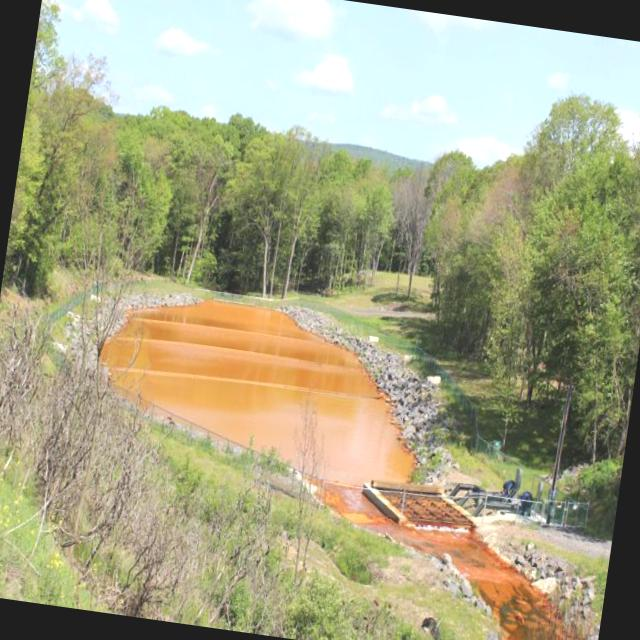yellow_boy: (102, 300, 412, 482), (330, 487, 561, 640)
